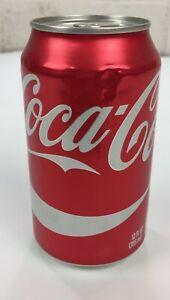metal: (21, 15, 161, 266)
